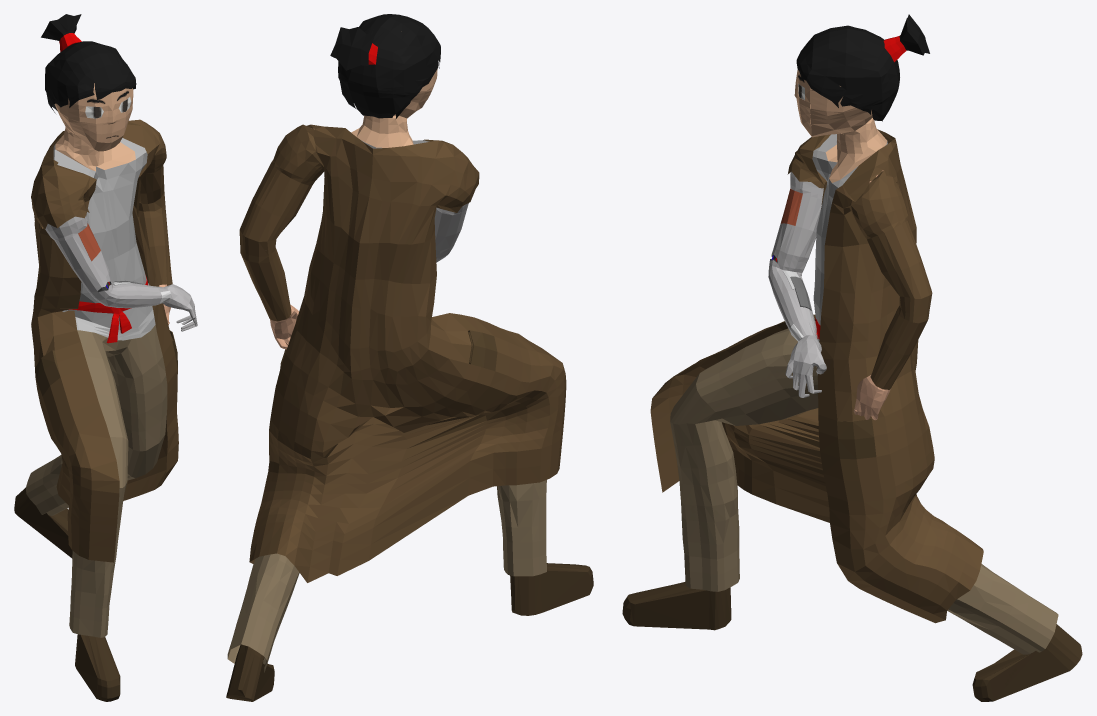
The model's file is One_DL_000003.obj.
The picture shows the model from 3 angles, left to right: view 1: azimuth 30°, elevation 25°; view 2: azimuth 150°, elevation 25°; view 3: azimuth 270°, elevation 25°; orthographic projection. The views are drawn at different scales.
Parts seen in each view (by area): view 1: Hair_Cube.004; view 2: Hair_Cube.004; view 3: Hair_Cube.004.
Boxes of the visible parts, x1=… form: Hair_Cube.004: x1=14, y1=14, x2=197, y2=701; Hair_Cube.004: x1=226, y1=14, x2=593, y2=701; Hair_Cube.004: x1=622, y1=14, x2=1082, y2=701.
Size of the model in its own units: 1.22 by 3.54 by 2.26.
